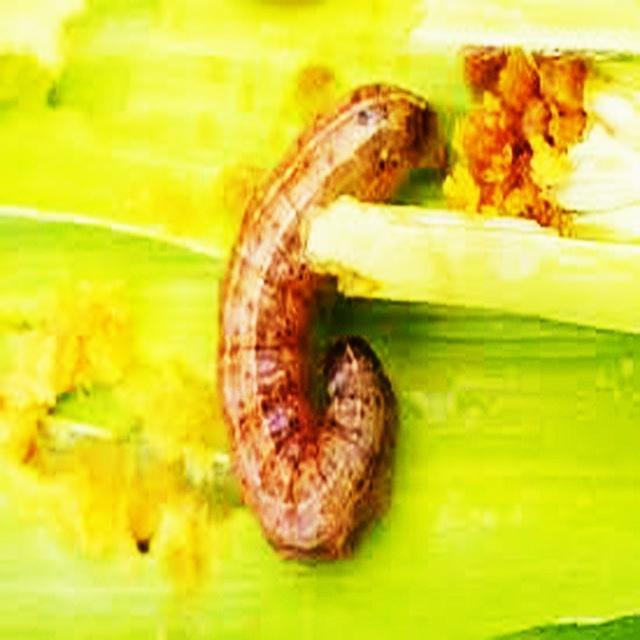worm: (215, 80, 451, 565)
